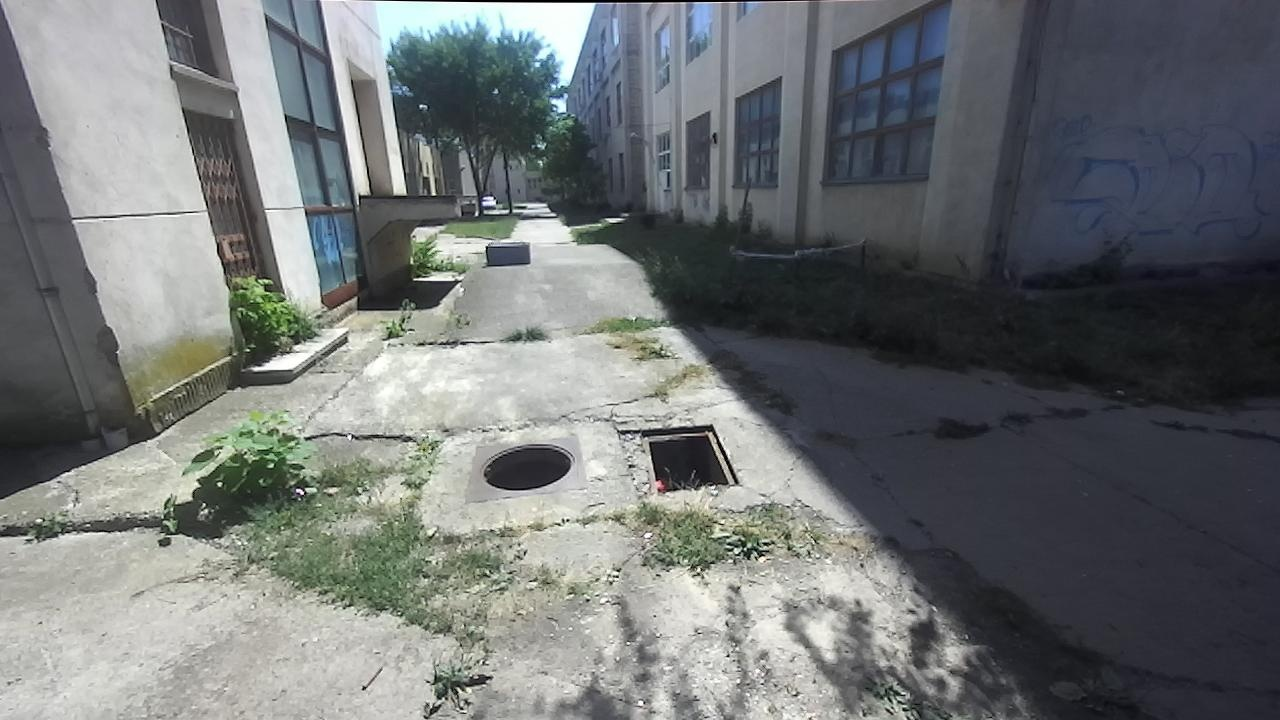drain: (638, 420, 746, 489), (474, 441, 581, 490)
